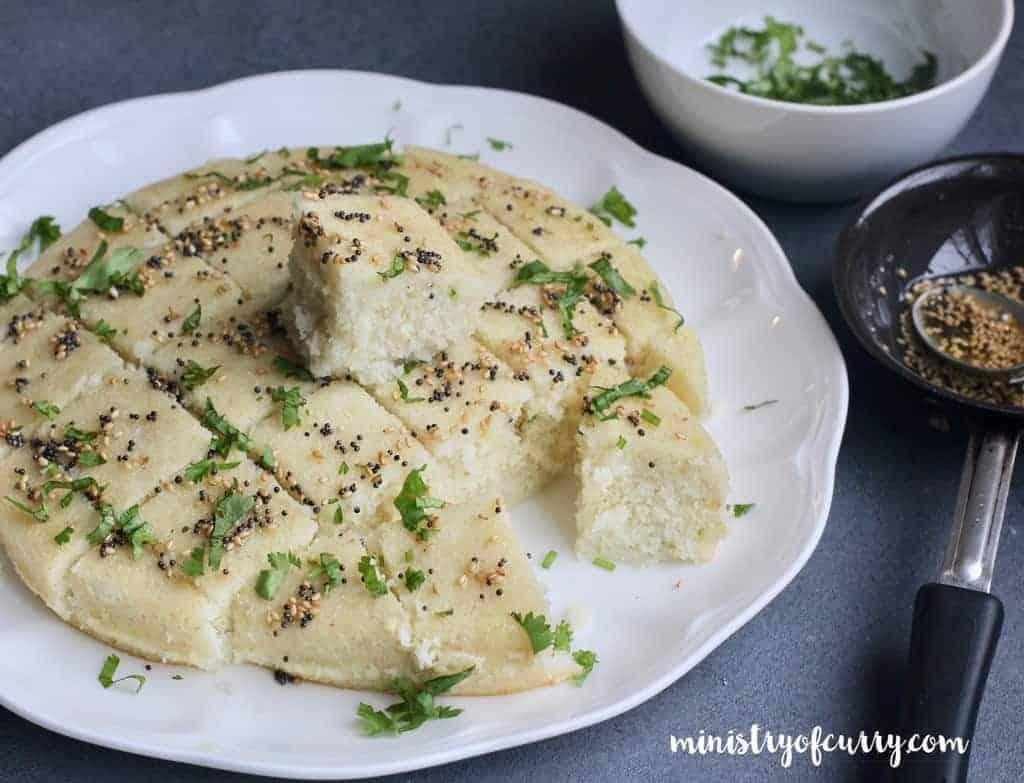dhokla: (4, 147, 702, 692)
